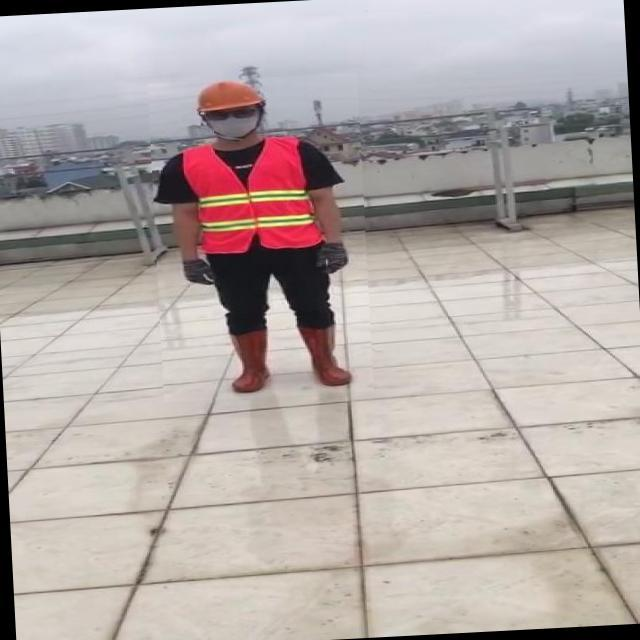Gloves: (317, 244, 354, 275), (178, 261, 217, 290)
Helmet: (190, 79, 267, 116)
Human: (148, 73, 374, 404)
Safety Boot: (296, 326, 353, 392), (223, 332, 280, 395)
Safety Vest: (179, 137, 322, 256)
